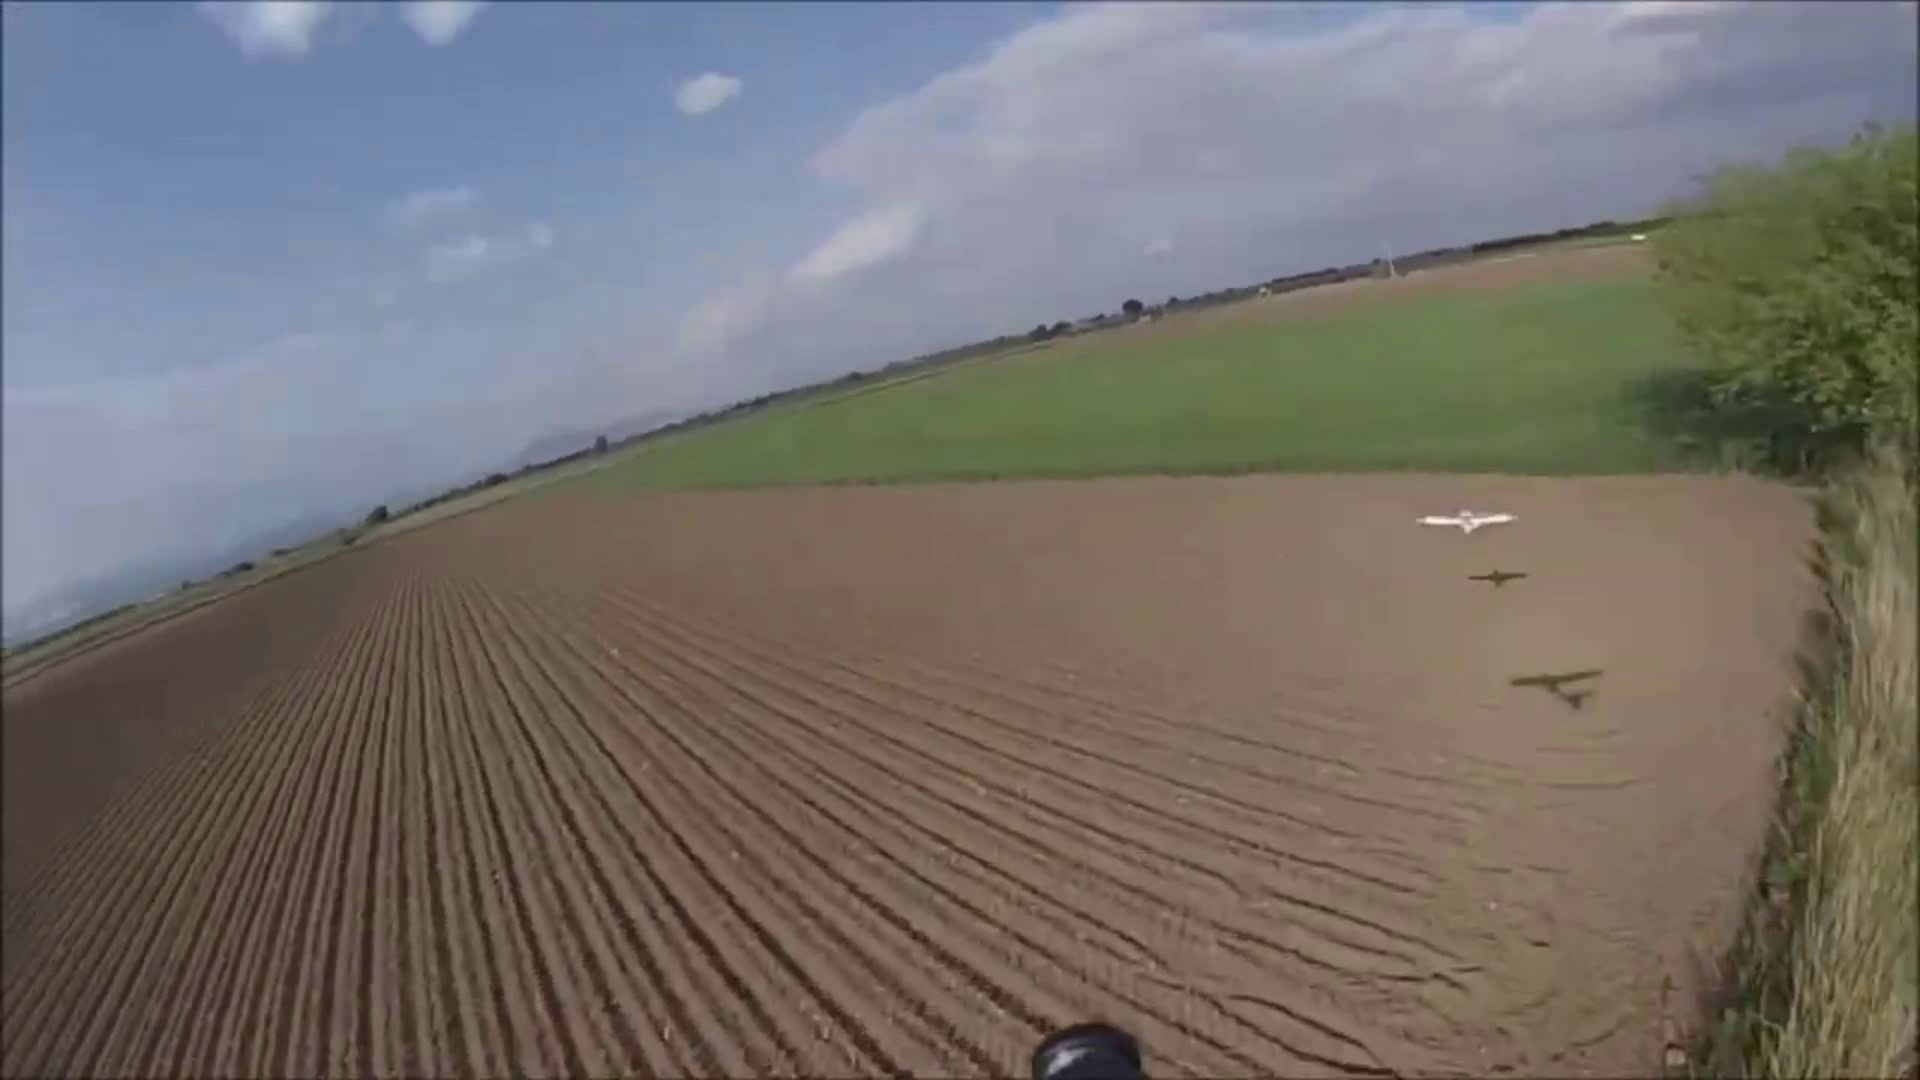airplane: (1418, 509, 1516, 534)
